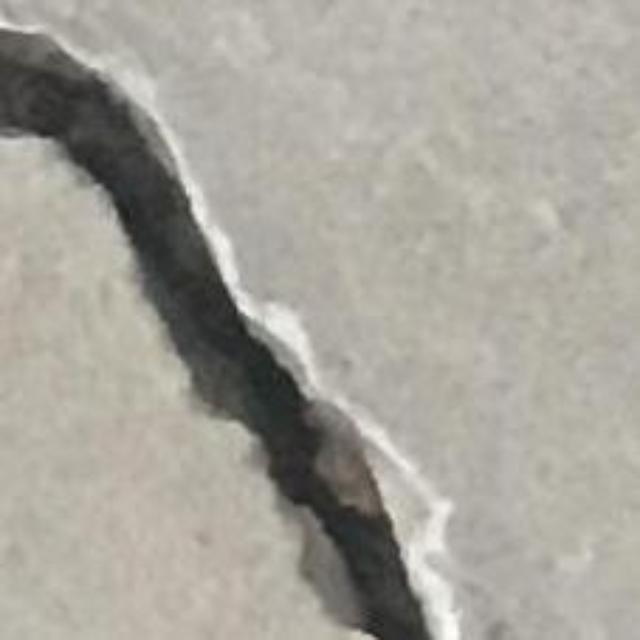crack: (0, 29, 434, 639)
